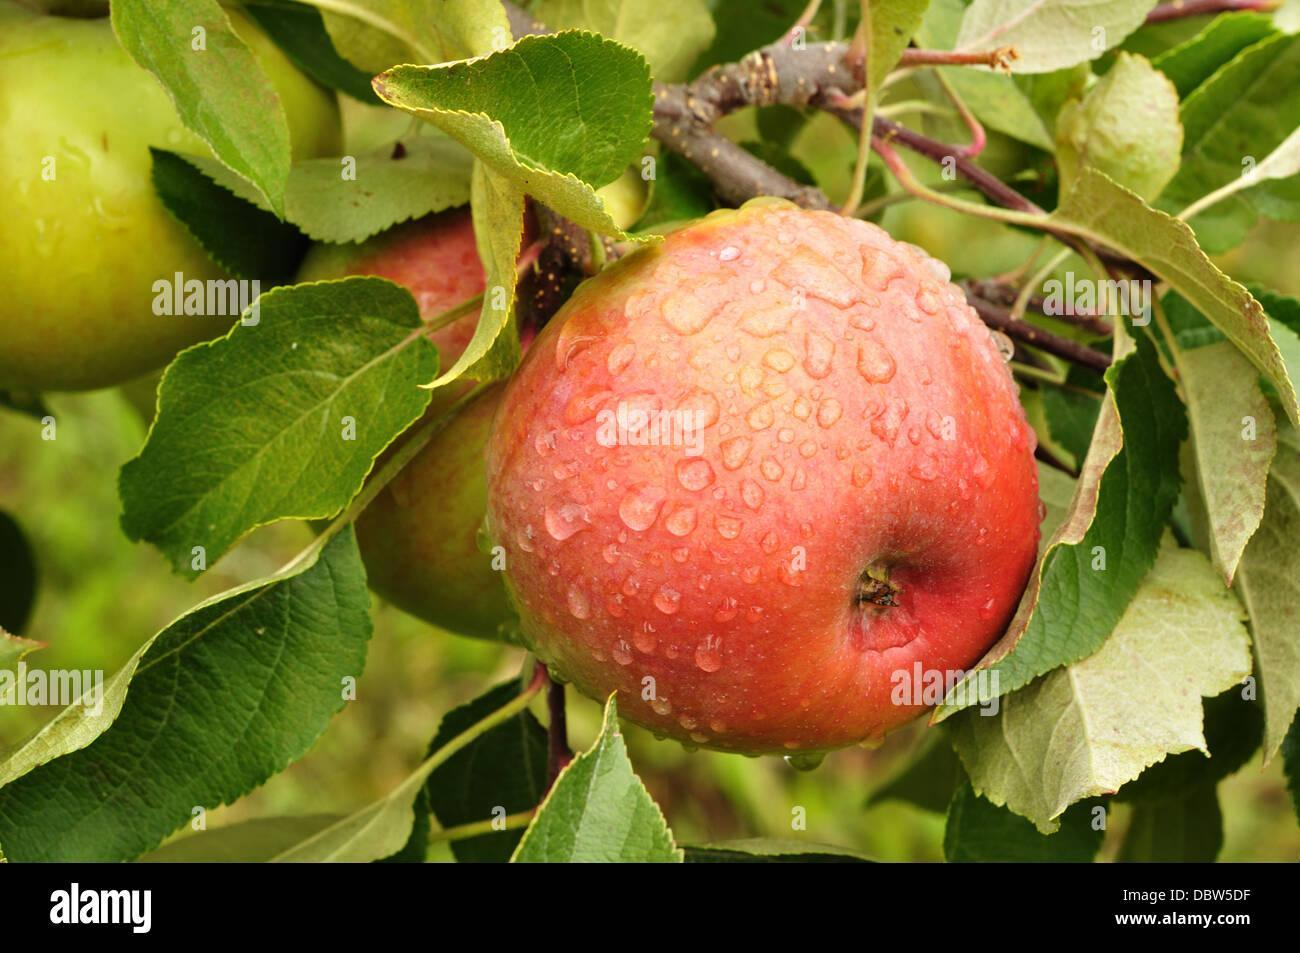apple: (447, 204, 1063, 763)
